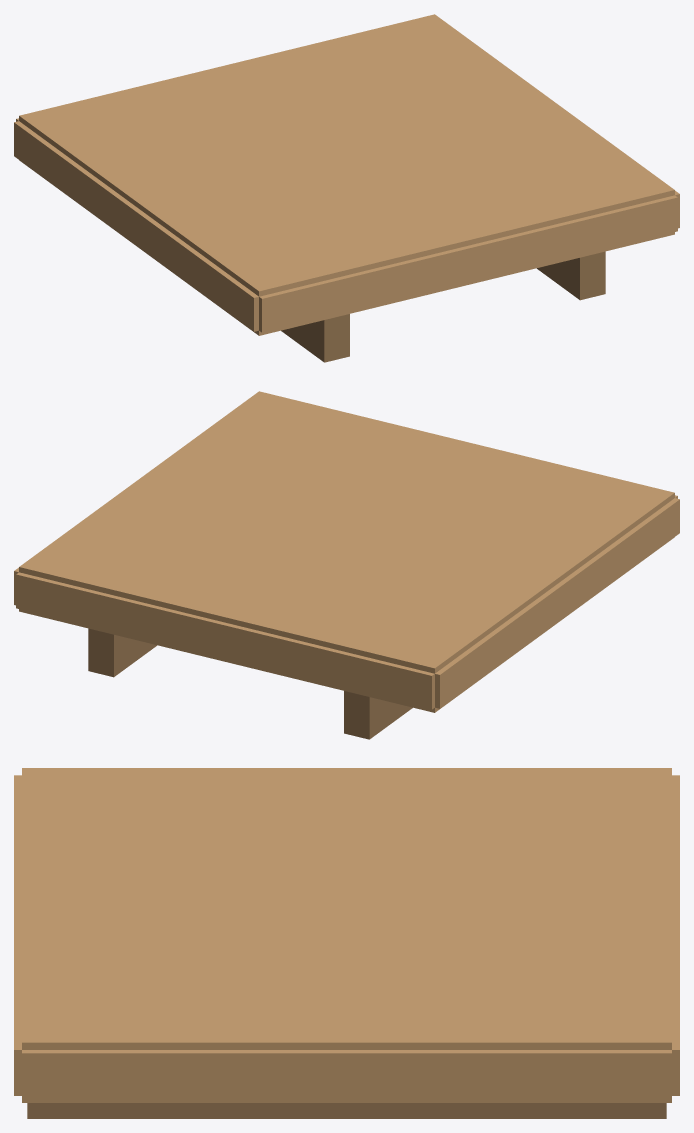
Rendered from palm_platform_v0.glb.
3 renders of one model, top to bottom at view 1: azimuth 30°, elevation 25°; view 2: azimuth 150°, elevation 25°; view 3: azimuth 270°, elevation 25°, orthographic. The views are drawn at different scales.
Visible parts, largest first — view 1: palm_platform_v0; view 2: palm_platform_v0; view 3: palm_platform_v0.
Part boxes in pixels (<box>): palm_platform_v0: <box>14,14,679,362</box>; palm_platform_v0: <box>14,391,679,739</box>; palm_platform_v0: <box>14,768,679,1118</box>.
Bounding box in the file's own units: 1 × 0.2 × 1.
